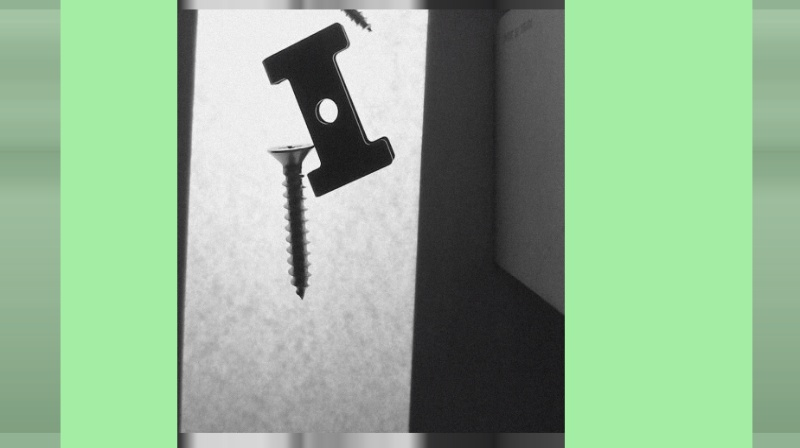O001: (263, 0, 377, 34)
O002: (261, 22, 395, 196)
S001: (266, 140, 311, 299)
